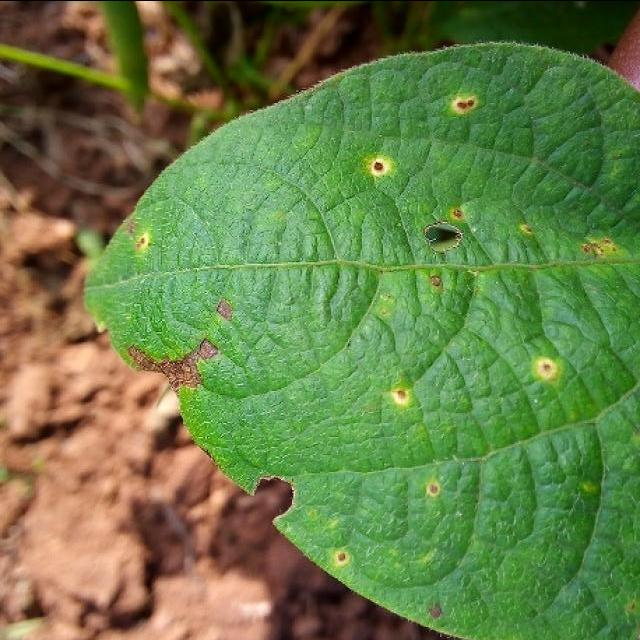mozaik: (231, 436, 328, 552), (404, 184, 491, 263)
